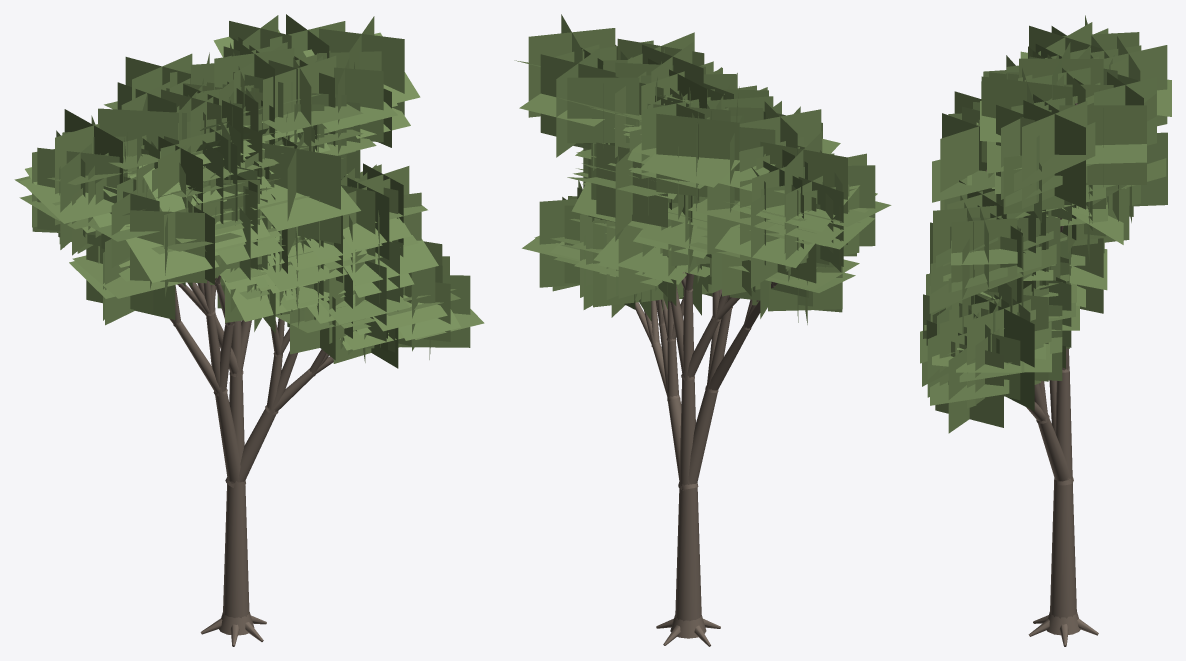
Rendered from elm.glb.
3 views of the same model, side by side, from view 1: azimuth 30°, elevation 25°; view 2: azimuth 150°, elevation 25°; view 3: azimuth 270°, elevation 25° (orthographic).
Parts seen in each view (by area): view 1: elm; view 2: elm; view 3: elm.
Boxes of the visible parts, left/top/right/bottom form: elm: left=14, top=14, right=484, bottom=646; elm: left=514, top=14, right=891, bottom=646; elm: left=920, top=15, right=1171, bottom=646.
Size of the model in its own units: 12.08 by 17.94 by 7.04.
